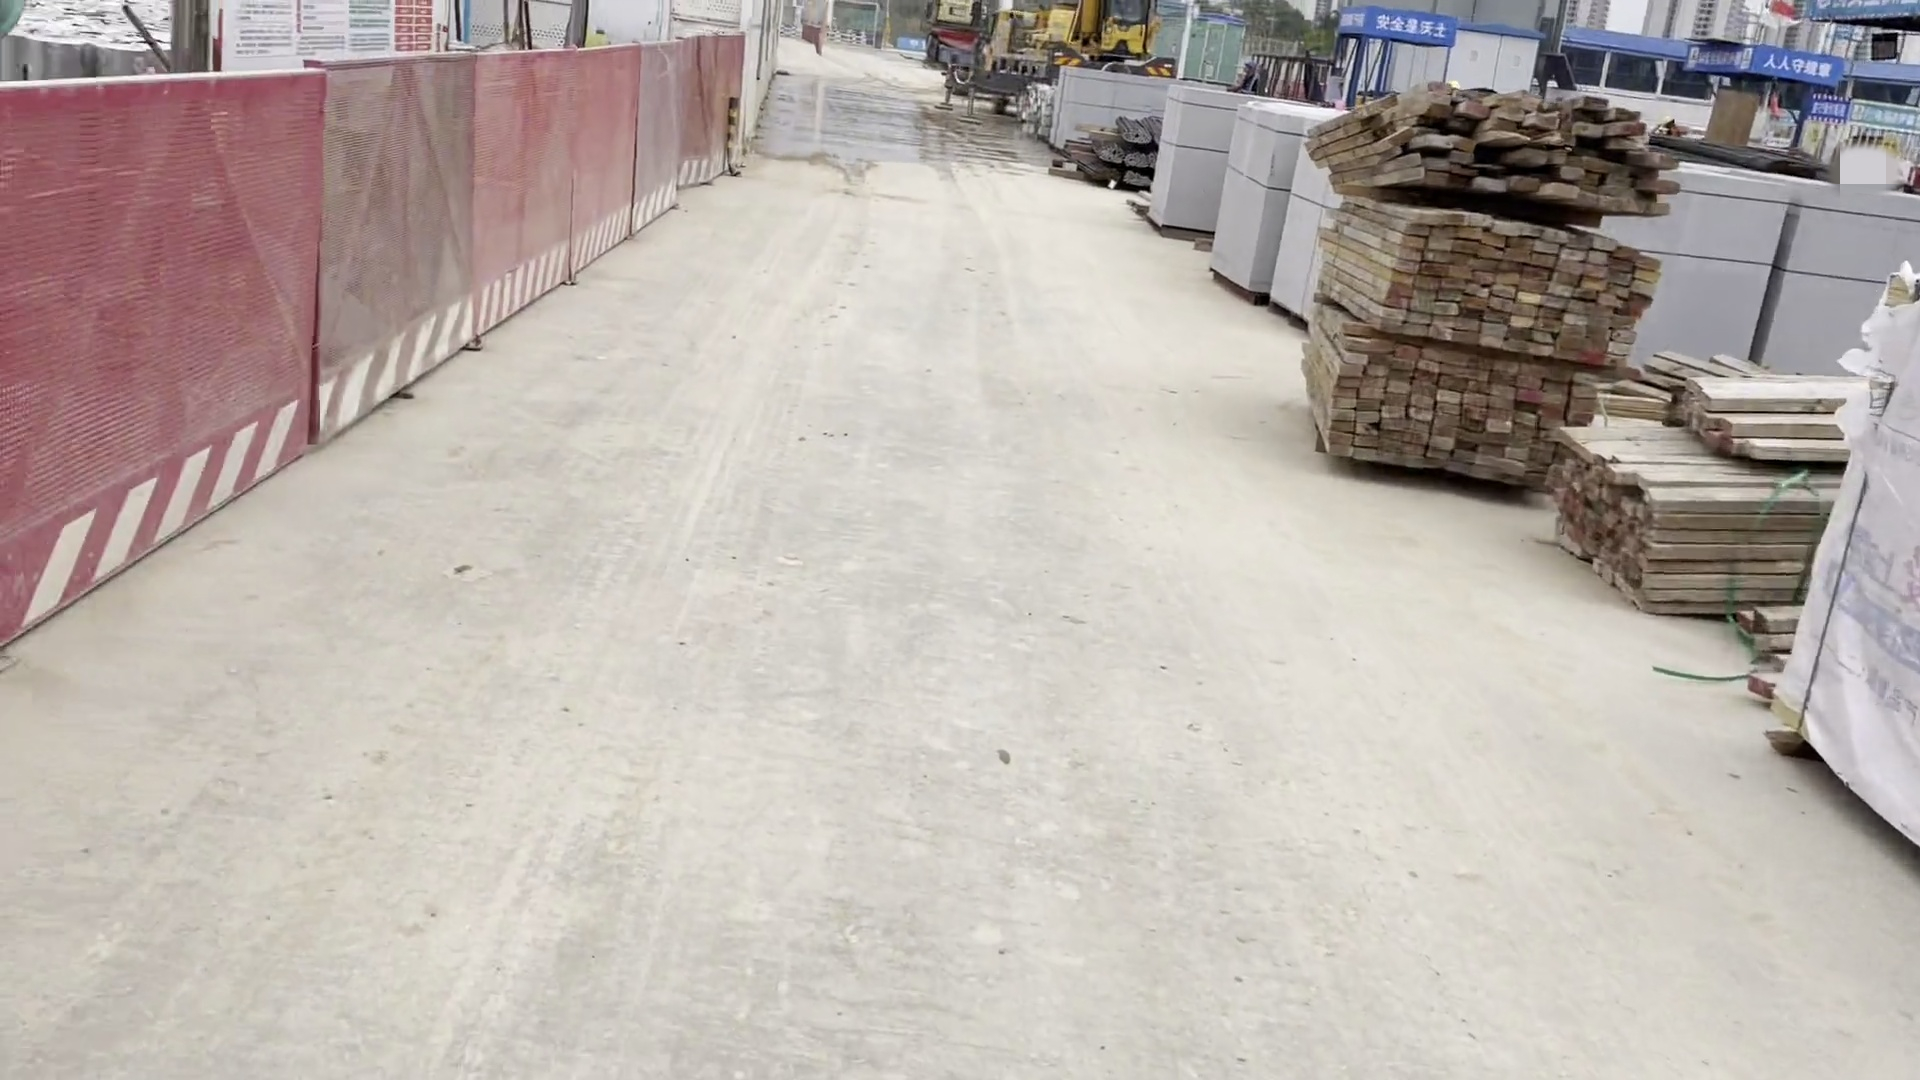fence: (3, 18, 746, 646)
wood: (1331, 90, 1665, 491), (1536, 368, 1834, 607)
